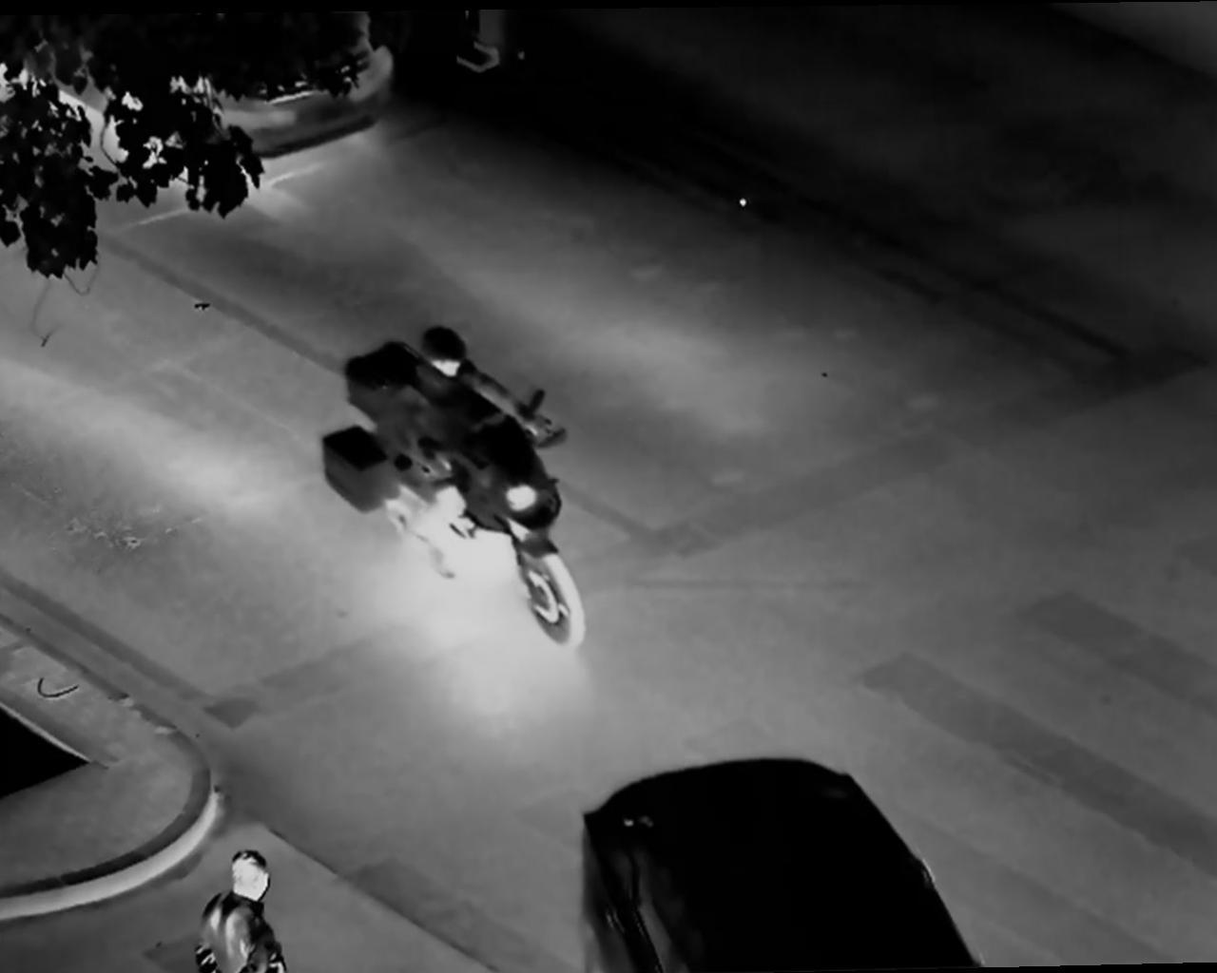person: (388, 320, 484, 515), (184, 845, 280, 973)
